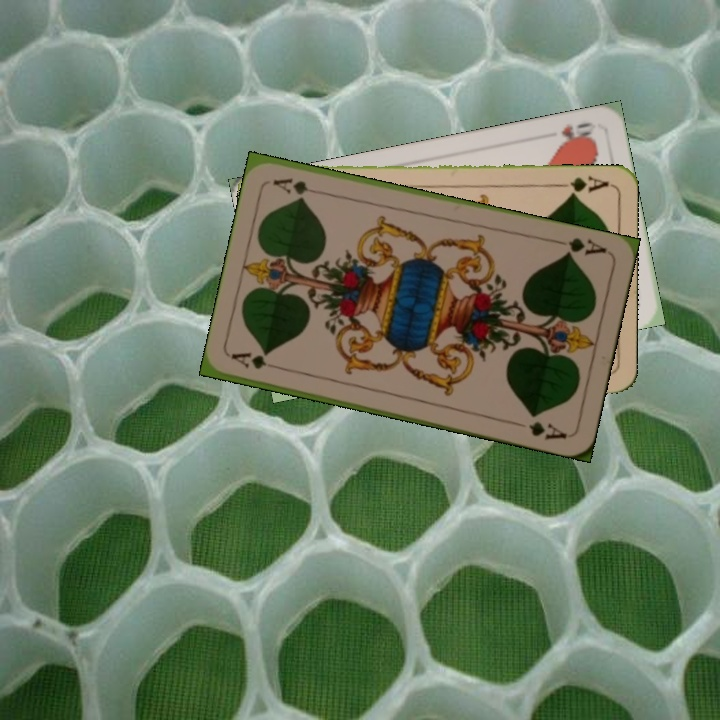GA: (552, 172, 611, 199), (551, 233, 609, 259), (228, 348, 287, 373)
HO: (554, 118, 598, 148)
